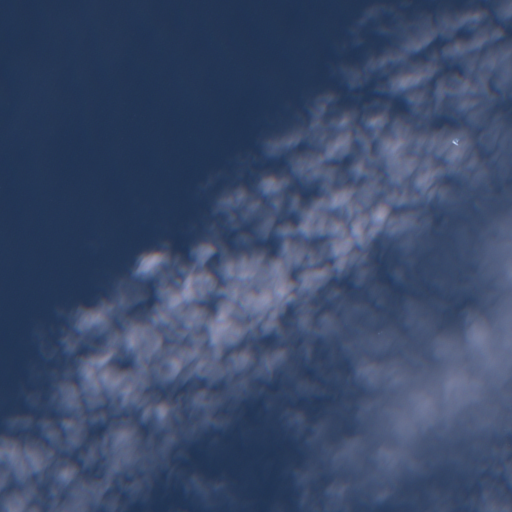Iceberg: (452, 138, 458, 145)
